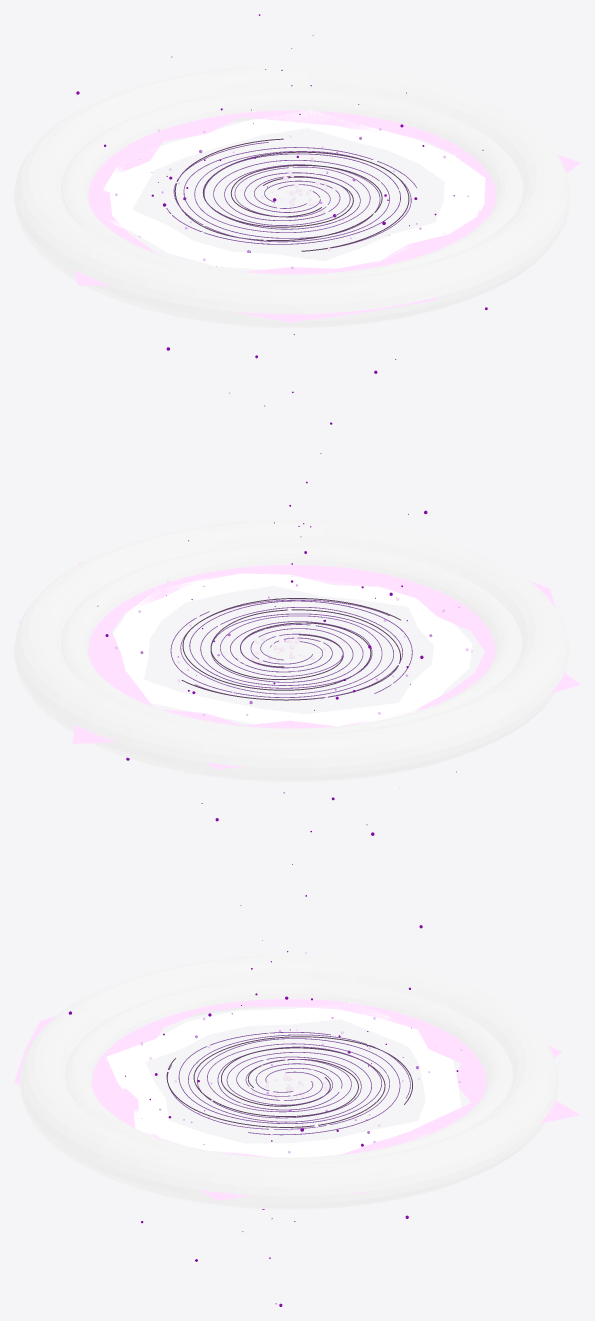
The model's file is portal2.glb.
3 views of the same model, one above another, from view 1: azimuth 30°, elevation 25°; view 2: azimuth 150°, elevation 25°; view 3: azimuth 270°, elevation 25° (orthographic). The views are drawn at different scales.
Visible parts, largest first — view 1: Neon_Mid_Glow, Neon_Inner_Glow, Portal_Inner_Ring, Portal_2D_Ring, Portal_Spaghetti_1, Portal_Spaghetti_0, Portal_Spaghetti_3, Portal_Spaghetti_2, Subtle_Line_1, Subtle_Line_0; view 2: Neon_Mid_Glow, Neon_Inner_Glow, Portal_Inner_Ring, Portal_2D_Ring, Portal_Spaghetti_2, Portal_Spaghetti_1, Portal_Spaghetti_3, Portal_Spaghetti_0, Subtle_Line_1, Subtle_Line_0; view 3: Neon_Mid_Glow, Neon_Inner_Glow, Portal_Inner_Ring, Portal_2D_Ring, Portal_Spaghetti_3, Portal_Spaghetti_0, Portal_Spaghetti_1, Portal_Spaghetti_2, Subtle_Line_1, Subtle_Line_0.
Part boxes in pixels (x1=…): Neon_Mid_Glow: x1=14, y1=65, x2=570, y2=328; Neon_Inner_Glow: x1=61, y1=89, x2=523, y2=279; Portal_Inner_Ring: x1=103, y1=110, x2=485, y2=269; Portal_2D_Ring: x1=74, y1=69, x2=580, y2=322; Portal_Spaghetti_1: x1=166, y1=153, x2=400, y2=244; Portal_Spaghetti_0: x1=173, y1=142, x2=389, y2=242; Portal_Spaghetti_3: x1=183, y1=147, x2=416, y2=238; Portal_Spaghetti_2: x1=194, y1=151, x2=411, y2=249; Subtle_Line_1: x1=202, y1=151, x2=409, y2=251; Subtle_Line_0: x1=174, y1=138, x2=382, y2=240; Neon_Mid_Glow: x1=14, y1=519, x2=569, y2=782; Neon_Inner_Glow: x1=61, y1=544, x2=522, y2=733; Portal_Inner_Ring: x1=113, y1=571, x2=472, y2=726; Portal_2D_Ring: x1=18, y1=562, x2=580, y2=769; Portal_Spaghetti_2: x1=180, y1=599, x2=389, y2=694; Portal_Spaghetti_1: x1=189, y1=600, x2=412, y2=693; Portal_Spaghetti_3: x1=170, y1=611, x2=393, y2=697; Portal_Spaghetti_0: x1=194, y1=607, x2=402, y2=699; Subtle_Line_1: x1=182, y1=598, x2=400, y2=690; Subtle_Line_0: x1=181, y1=609, x2=400, y2=700; Neon_Mid_Glow: x1=19, y1=955, x2=558, y2=1209; Neon_Inner_Glow: x1=65, y1=978, x2=512, y2=1162; Portal_Inner_Ring: x1=106, y1=1003, x2=460, y2=1157; Portal_2D_Ring: x1=14, y1=999, x2=580, y2=1200; Portal_Spaghetti_3: x1=197, y1=1038, x2=400, y2=1135; Portal_Spaghetti_0: x1=188, y1=1034, x2=410, y2=1122; Portal_Spaghetti_1: x1=178, y1=1032, x2=381, y2=1123; Portal_Spaghetti_2: x1=167, y1=1043, x2=389, y2=1129; Subtle_Line_1: x1=166, y1=1047, x2=385, y2=1127; Subtle_Line_0: x1=193, y1=1036, x2=412, y2=1116.
Bounding box in the file's own units: 5.95 × 4.24 × 5.99.
